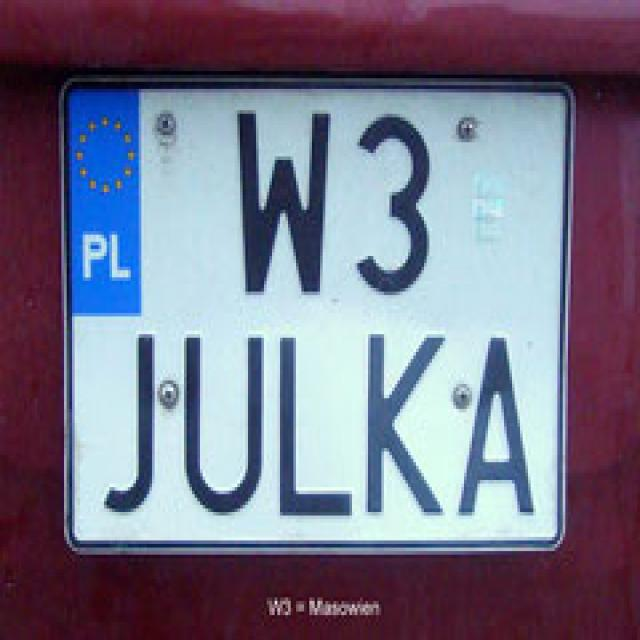pl_license_plate: (61, 82, 560, 544)
